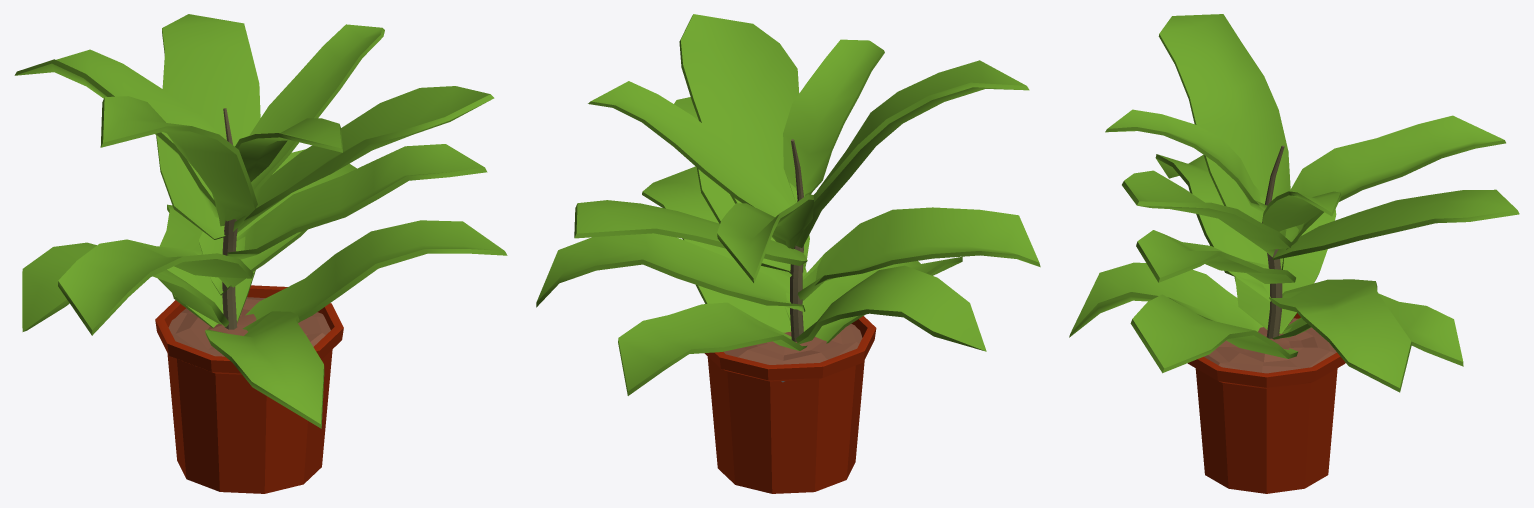
File: Plant_Fern.fbx
3 views of the same model, side by side, from view 1: azimuth 30°, elevation 25°; view 2: azimuth 150°, elevation 25°; view 3: azimuth 270°, elevation 25° (orthographic). The views are drawn at different scales.
Parts seen in each view (by area): view 1: leaf33; view 2: leaf33; view 3: leaf33.
Boxes of the visible parts, x1,y1,x2,y2 form: leaf33: (14, 14, 507, 493); leaf33: (536, 14, 1040, 493); leaf33: (1069, 14, 1519, 493).
Size of the model in its own units: 85.79 by 83.44 by 89.94.
